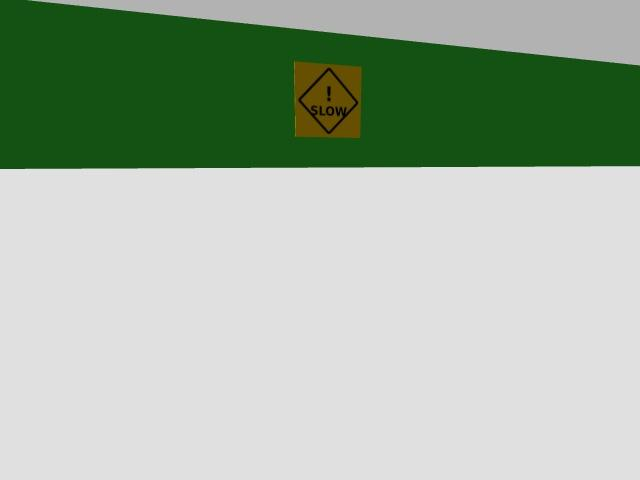slow: (295, 61, 361, 138)
